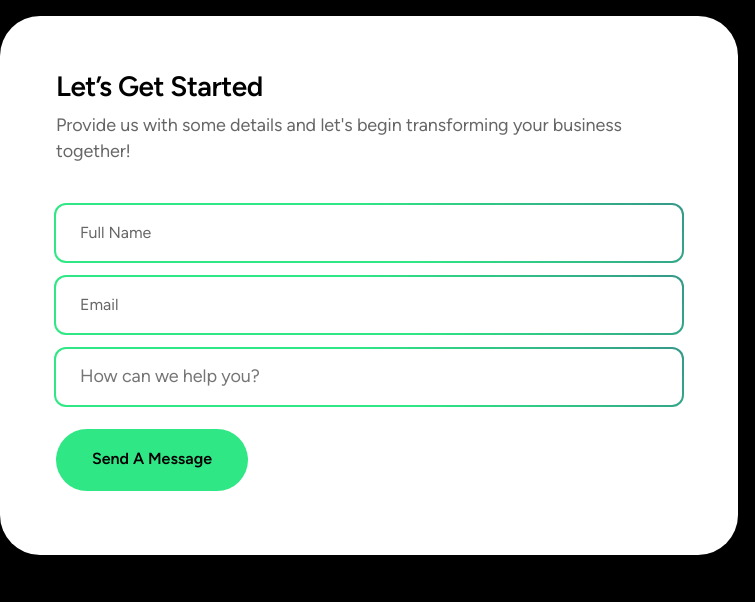
Test: Form › failure. submitting an empty form
Click the button at (152, 460), box [56,429,248,491]
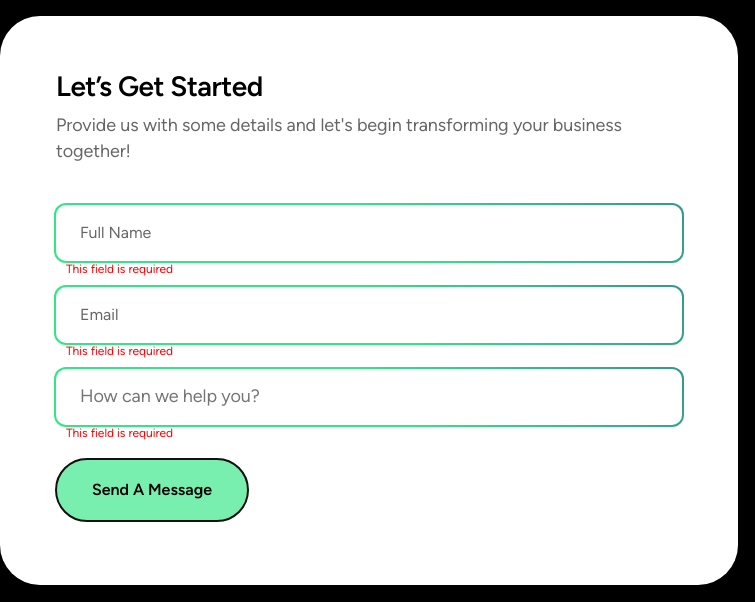
Check: the text with test id "fullName" reads "This field is required", box [66,262,173,276]
Check: the text with test id "email" reads "This field is required", box [66,344,173,358]
Check: the text with test id "message" reads "This field is required", box [66,426,173,440]
